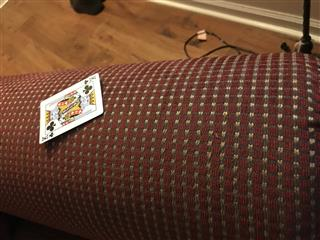KingOfClubs: (38, 72, 104, 145)
